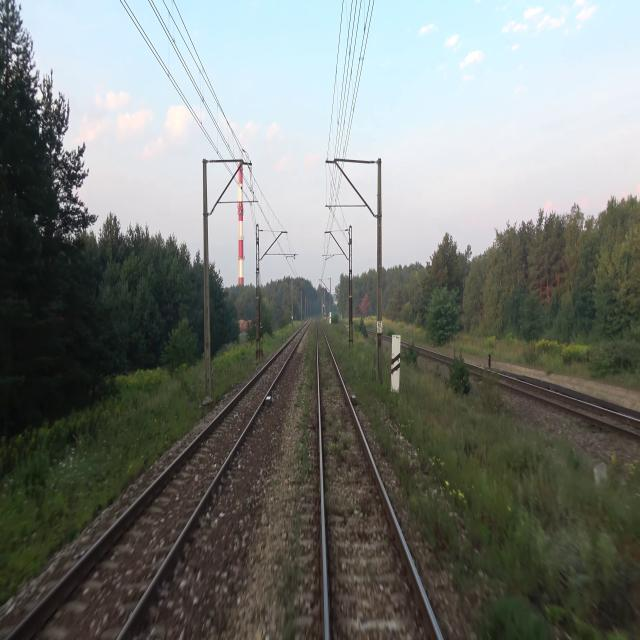rail-track: (11, 326, 305, 639), (318, 321, 438, 639), (498, 376, 640, 430)
